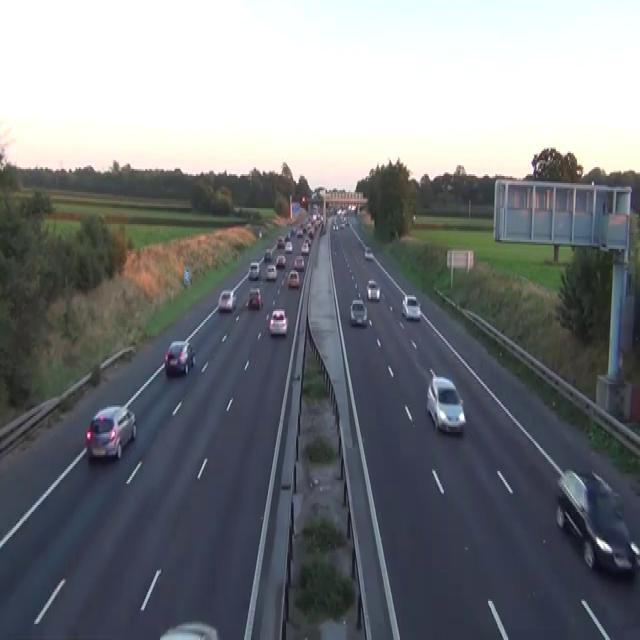Car: (555, 468, 639, 578), (85, 404, 136, 461), (426, 370, 466, 434), (164, 340, 195, 375), (159, 620, 219, 638), (401, 293, 421, 320), (269, 308, 288, 334), (349, 299, 367, 325), (245, 286, 263, 310), (217, 290, 236, 311), (332, 210, 349, 229), (366, 278, 380, 300), (287, 268, 299, 288), (266, 263, 277, 281), (248, 261, 259, 279), (294, 254, 304, 270), (275, 254, 286, 268), (441, 181, 454, 192), (364, 246, 373, 260), (264, 247, 272, 261), (284, 240, 293, 252), (300, 242, 309, 254), (277, 235, 284, 247), (348, 202, 356, 212), (320, 224, 326, 235), (339, 218, 345, 228), (305, 235, 311, 245), (296, 228, 303, 236), (364, 244, 371, 252), (284, 233, 290, 242), (332, 222, 338, 230), (290, 228, 296, 236), (344, 217, 349, 226), (308, 230, 313, 238), (301, 195, 306, 202), (258, 230, 262, 238)
